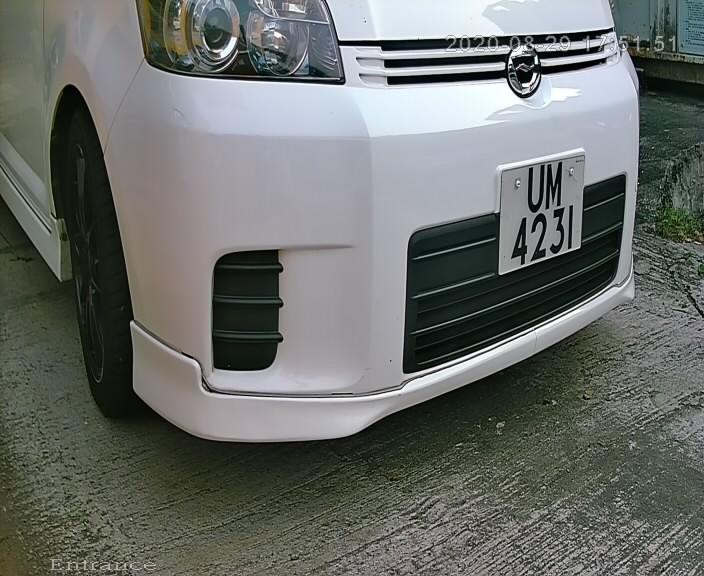License Plate: (497, 137, 588, 286)
